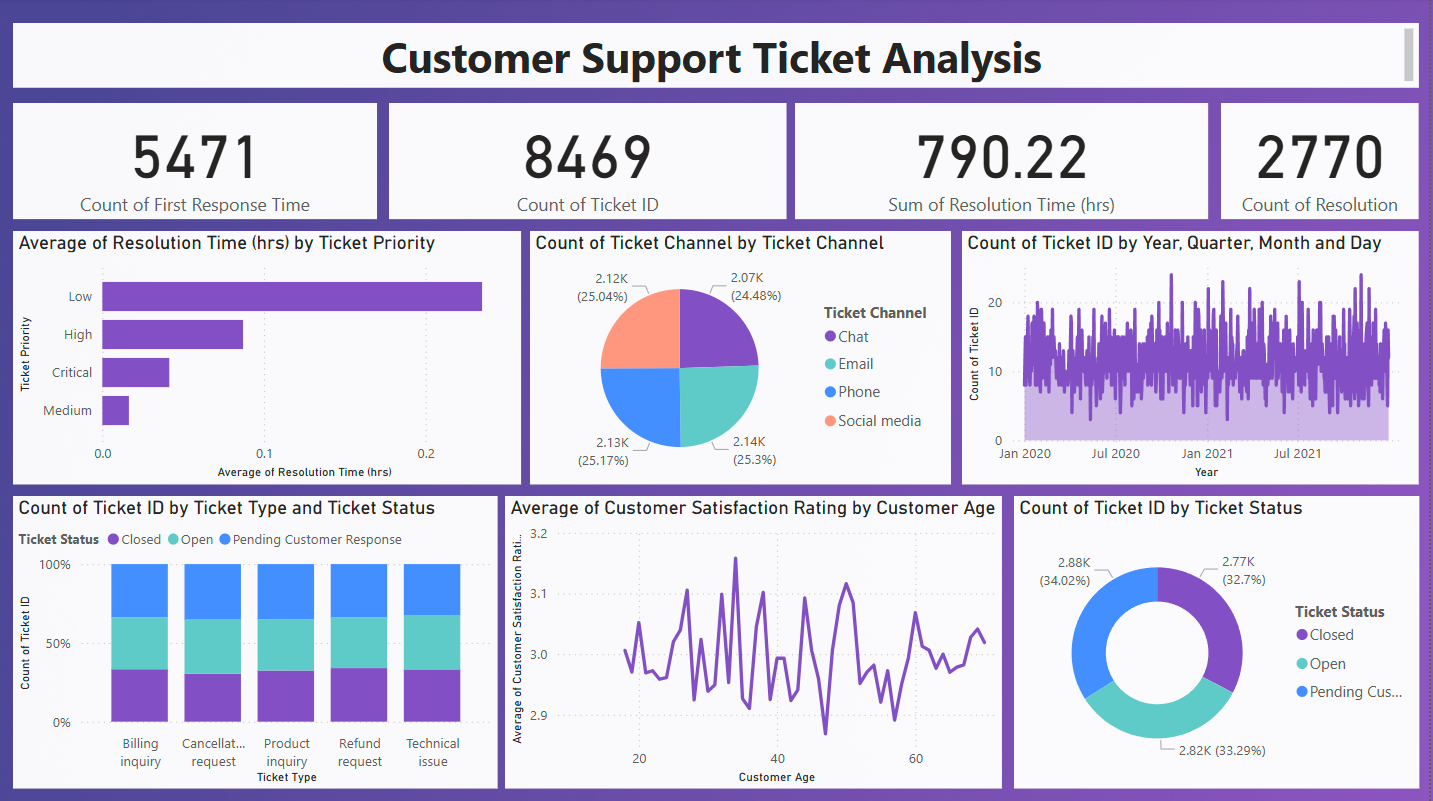

The dashboard page shown, as its layout file describes it:
{"tool":"powerbi","page":{"name":"Page 1","canvas":[1280,720],"ordinal":0},"visuals":[{"type":"card","fields":{"Values":["Count(cleaned_customer_support_tickets (1).First Response Time)"]},"box":[12.5,94,326,103.9],"z":0},{"type":"card","fields":{"Values":["Count(cleaned_customer_support_tickets (1).Ticket ID)"]},"box":[349.3,94,356.4,103.9],"z":1000},{"type":"barChart","fields":{"Category":["cleaned_customer_support_tickets (1).Ticket Priority"],"Y":["Avg(cleaned_customer_support_tickets (1).Resolution Time (hrs))"]},"box":[12.5,208.7,454.9,226.6],"z":2000},{"type":"pieChart","fields":{"Category":["cleaned_customer_support_tickets (1).Ticket Channel"],"Y":["CountNonNull(cleaned_customer_support_tickets (1).Ticket Channel)"]},"box":[475.5,208.7,377,226.6],"z":2001},{"type":"hundredPercentStackedColumnChart","fields":{"Category":["cleaned_customer_support_tickets (1).Ticket Type"],"Series":["cleaned_customer_support_tickets (1).Ticket Status"],"Y":["CountNonNull(cleaned_customer_support_tickets (1).Ticket ID)"]},"box":[12.5,446,434.3,262.4],"z":2002},{"type":"lineChart","fields":{"Category":["cleaned_customer_support_tickets (1).Customer Age"],"Y":["Avg(cleaned_customer_support_tickets (1).Customer Satisfaction Rating)"]},"box":[453.1,446,445.1,262.4],"z":2003},{"type":"areaChart","fields":{"Category":["cleaned_customer_support_tickets (1).Date of Purchase.Variation.Date Hierarchy.Year","cleaned_customer_support_tickets (1).Date of Purchase.Variation.Date Hierarchy.Quarter","cleaned_customer_support_tickets (1).Date of Purchase.Variation.Date Hierarchy.Month","cleaned_customer_support_tickets (1).Date of Purchase.Variation.Date Hierarchy.Day"],"Y":["CountNonNull(cleaned_customer_support_tickets (1).Ticket ID)"]},"box":[862.4,208.7,409.3,226.6],"z":2004},{"type":"card","fields":{"Values":["Sum(cleaned_customer_support_tickets (1).Resolution Time (hrs))"]},"box":[712.8,94,369.9,103.9],"z":2005},{"type":"donutChart","fields":{"Category":["cleaned_customer_support_tickets (1).Ticket Status"],"Y":["CountNonNull(cleaned_customer_support_tickets (1).Ticket ID)"]},"box":[909,446,362.7,262.4],"z":2006},{"type":"textbox","box":[12.5,22.4,1259.1,58.2],"z":2007},{"type":"card","fields":{"Values":["Count(cleaned_customer_support_tickets (1).Resolution)"]},"box":[1094.3,94,177.3,103.9],"z":2008}]}

Visuals, with their boxes in screenshot pixels (x1, y1, x2, y2), scaled from the page's 1280x720 canvas onto the 1433x801 screenshot:
card - Count(cleaned_customer_support_tickets (1).First Response Time): l=14, t=105, r=379, b=220
card - Count(cleaned_customer_support_tickets (1).Ticket ID): l=391, t=105, r=790, b=220
barChart - cleaned_customer_support_tickets (1).Ticket Priority x Avg(cleaned_customer_support_tickets (1).Resolution Time (hrs)): l=14, t=232, r=523, b=484
pieChart - cleaned_customer_support_tickets (1).Ticket Channel x CountNonNull(cleaned_customer_support_tickets (1).Ticket Channel): l=532, t=232, r=954, b=484
hundredPercentStackedColumnChart - cleaned_customer_support_tickets (1).Ticket Type x cleaned_customer_support_tickets (1).Ticket Status: l=14, t=496, r=500, b=788
lineChart - cleaned_customer_support_tickets (1).Customer Age x Avg(cleaned_customer_support_tickets (1).Customer Satisfaction Rating): l=507, t=496, r=1006, b=788
areaChart - cleaned_customer_support_tickets (1).Date of Purchase.Variation.Date Hierarchy.Year x cleaned_customer_support_tickets (1).Date of Purchase.Variation.Date Hierarchy.Quarter: l=965, t=232, r=1424, b=484
card - Sum(cleaned_customer_support_tickets (1).Resolution Time (hrs)): l=798, t=105, r=1212, b=220
donutChart - cleaned_customer_support_tickets (1).Ticket Status x CountNonNull(cleaned_customer_support_tickets (1).Ticket ID): l=1018, t=496, r=1424, b=788
textbox: l=14, t=25, r=1424, b=90
card - Count(cleaned_customer_support_tickets (1).Resolution): l=1225, t=105, r=1424, b=220
